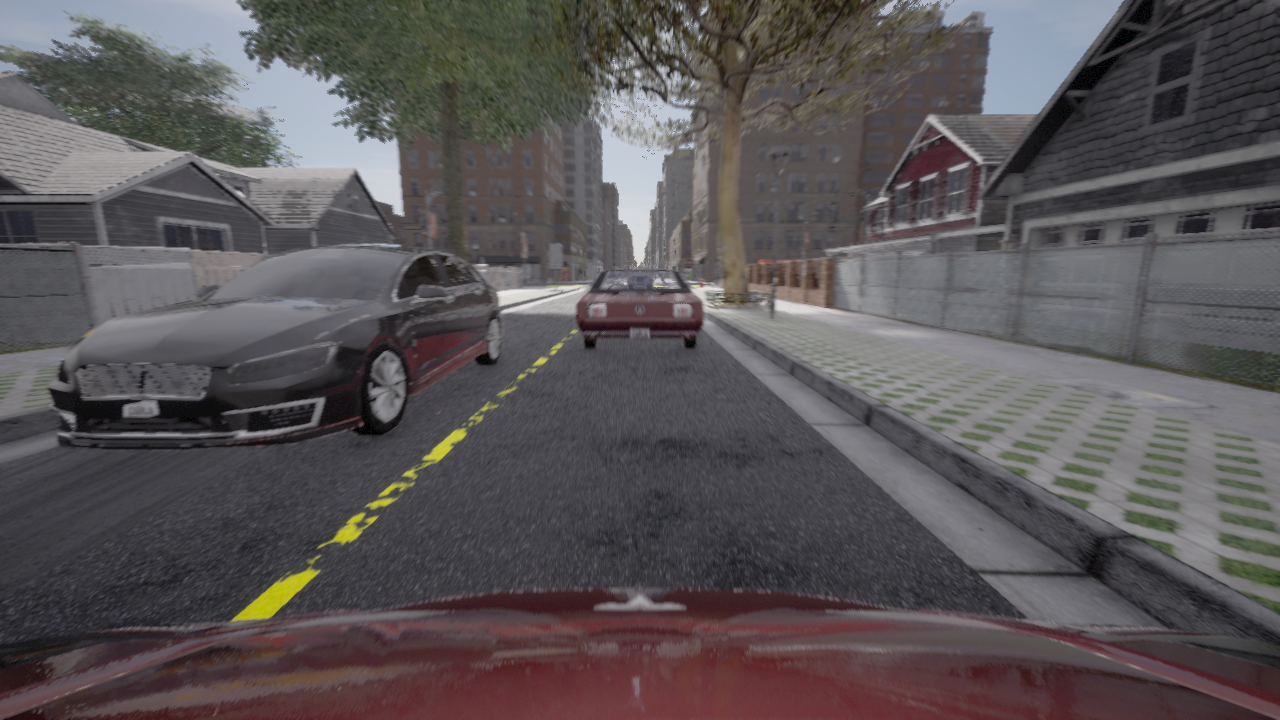cyclist: (0, 588, 1279, 719), (47, 243, 502, 449), (575, 268, 704, 348), (758, 260, 790, 263)
